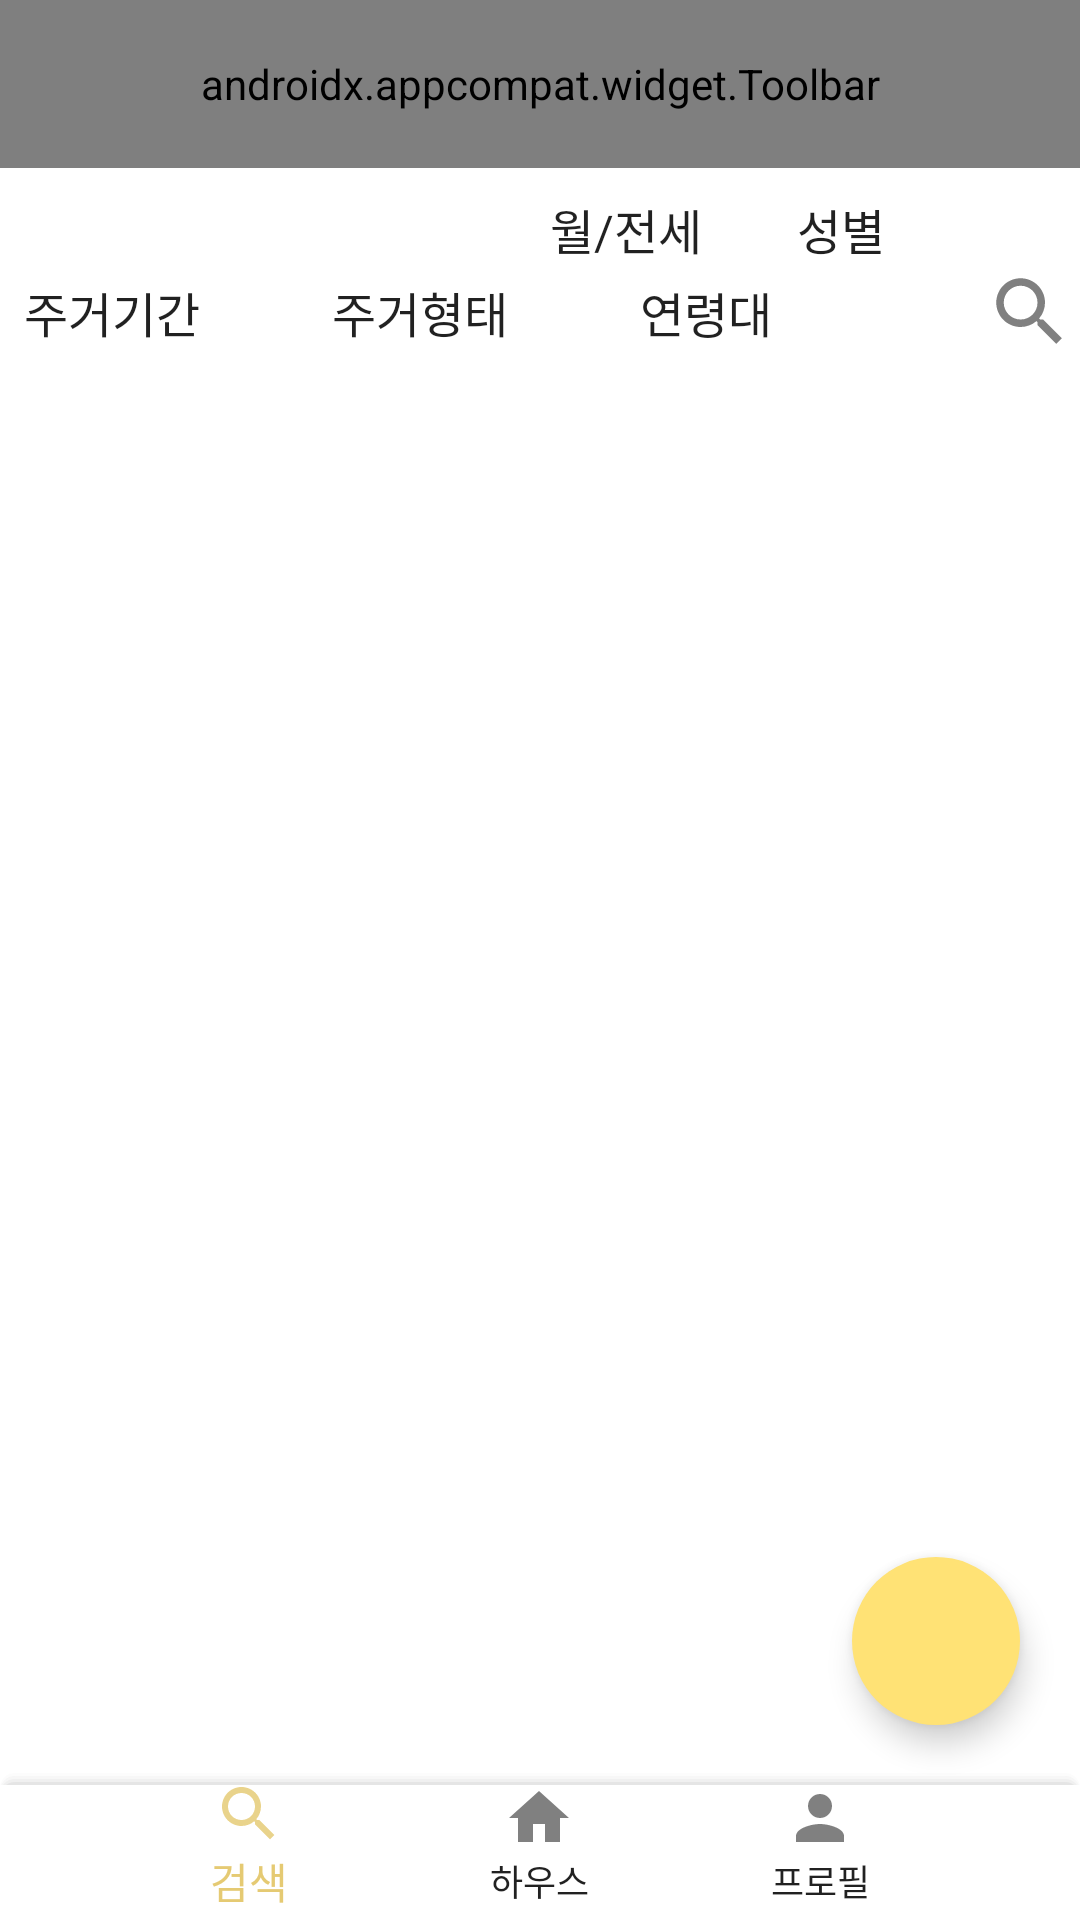

Point at icon controls on the screen. Image size 1080px x 1920px, points as point (x, y).
search: point (1029, 311)
